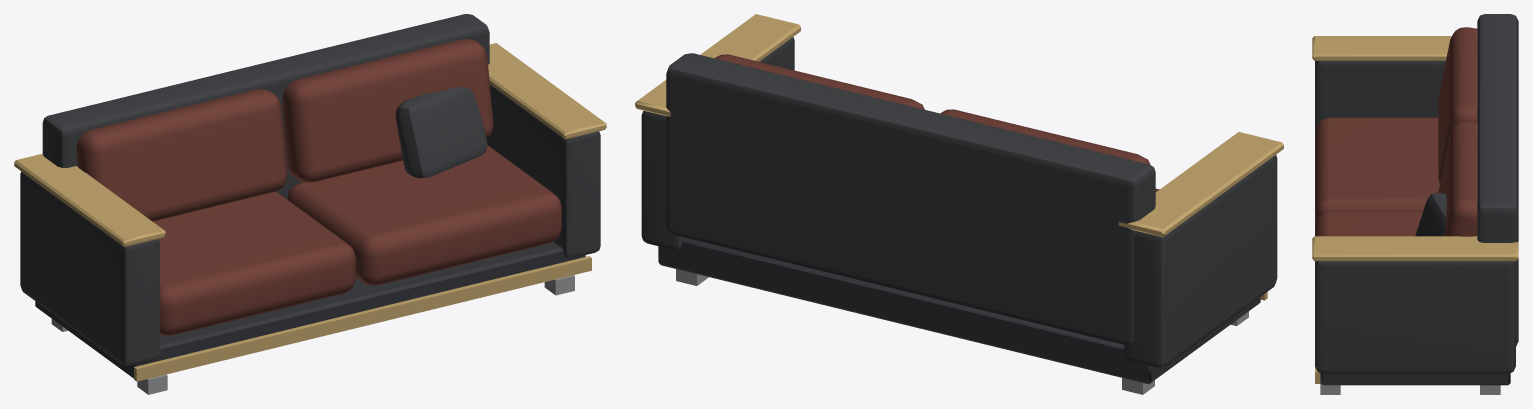
The model's file is int_sofa.glb.
3 renders of one model, left to right at view 1: azimuth 30°, elevation 25°; view 2: azimuth 150°, elevation 25°; view 3: azimuth 270°, elevation 25°, orthographic. The views are drawn at different scales.
Parts seen in each view (by area): view 1: kit_int_sofa_cloth, kit_int_sofa_dark_cloth, kit_int_sofa_trim_metal, kit_int_sofa_dark_metal, kit_int_sofa_metal; view 2: kit_int_sofa_dark_cloth, kit_int_sofa_dark_metal, kit_int_sofa_trim_metal, kit_int_sofa_cloth, kit_int_sofa_metal; view 3: kit_int_sofa_dark_cloth, kit_int_sofa_cloth, kit_int_sofa_trim_metal, kit_int_sofa_dark_metal, kit_int_sofa_metal.
Boxes of the visible parts, box(x1,y1,x2,y2) form: kit_int_sofa_cloth: box(76, 39, 561, 335); kit_int_sofa_dark_cloth: box(20, 14, 600, 365); kit_int_sofa_trim_metal: box(14, 43, 606, 381); kit_int_sofa_dark_metal: box(35, 241, 585, 378); kit_int_sofa_metal: box(51, 275, 574, 394); kit_int_sofa_dark_cloth: box(641, 37, 1277, 367); kit_int_sofa_dark_metal: box(658, 238, 1260, 384); kit_int_sofa_trim_metal: box(635, 14, 1283, 300); kit_int_sofa_cloth: box(715, 54, 1159, 191); kit_int_sofa_metal: box(676, 269, 1248, 394); kit_int_sofa_dark_cloth: box(1315, 14, 1518, 373); kit_int_sofa_cloth: box(1315, 27, 1477, 236); kit_int_sofa_trim_metal: box(1312, 36, 1518, 383); kit_int_sofa_dark_metal: box(1320, 373, 1510, 385); kit_int_sofa_metal: box(1320, 383, 1500, 394).
Bounding box in the file's own units: 2.02 × 0.81 × 0.8.
